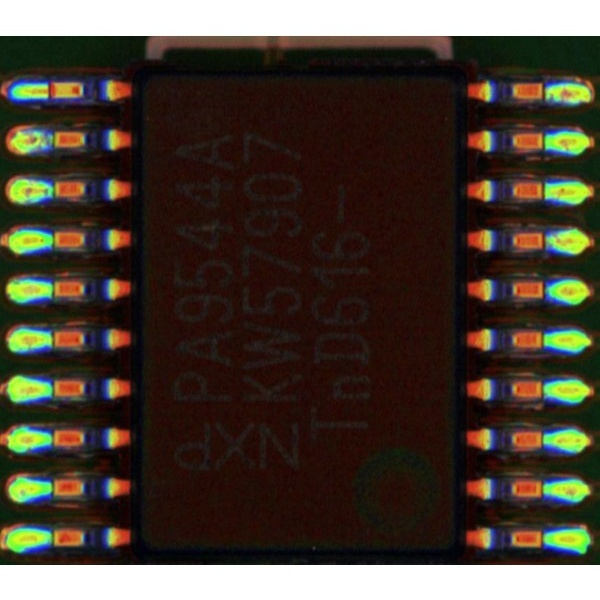Bad_podu: (40, 83, 58, 96)
